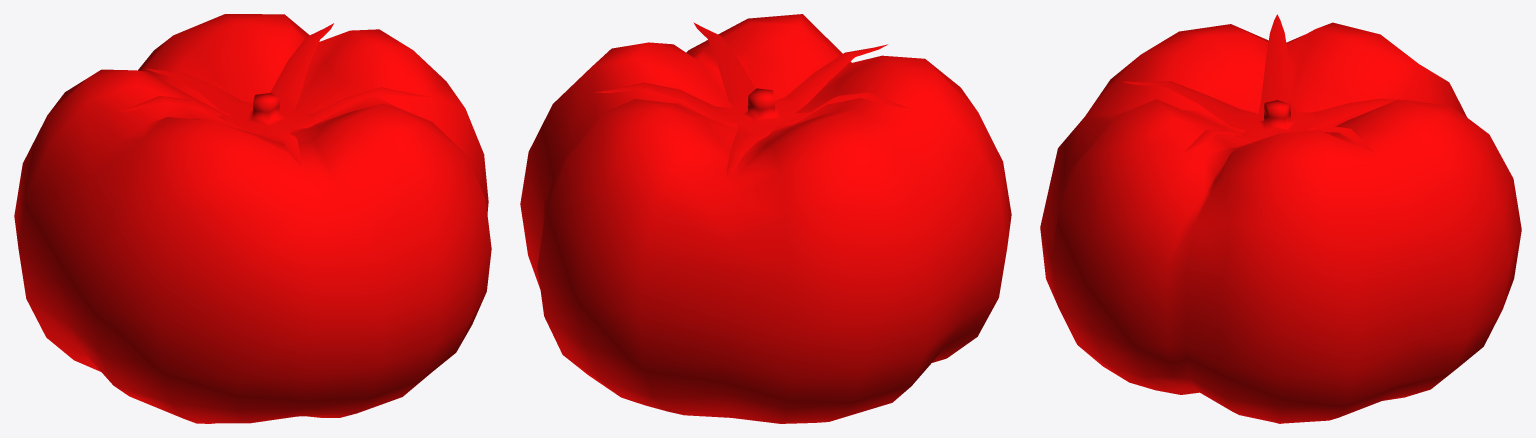
Rendered from tomato.fbx.
3 renders of one model, left to right at view 1: azimuth 30°, elevation 25°; view 2: azimuth 150°, elevation 25°; view 3: azimuth 270°, elevation 25°, orthographic. The views are drawn at different scales.
Visible parts, largest first — view 1: tomato_a1_mesh; view 2: tomato_a1_mesh; view 3: tomato_a1_mesh.
Part boxes in pixels (x1=…): tomato_a1_mesh: x1=14, y1=14, x2=491, y2=423; tomato_a1_mesh: x1=520, y1=14, x2=1011, y2=423; tomato_a1_mesh: x1=1040, y1=14, x2=1521, y2=423.
Bounding box in the file's own units: 1066 × 749 × 1096.
